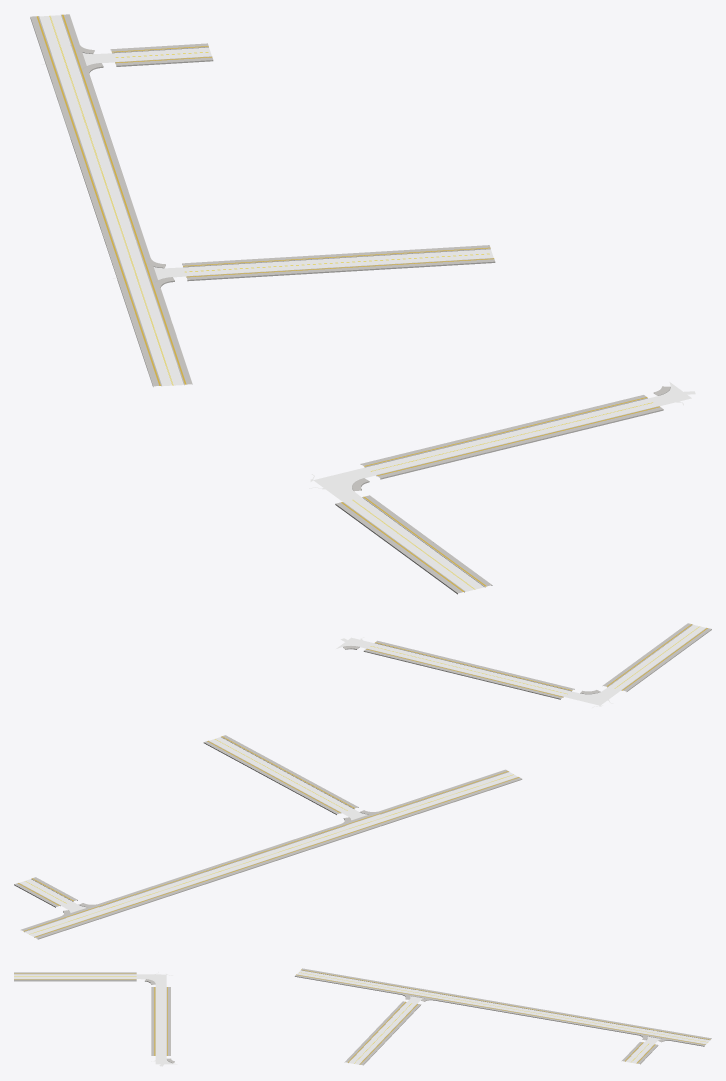
File: roads_-5_0.gltf
3 renders of one model, top to bottom at view 1: azimuth 30°, elevation 25°; view 2: azimuth 150°, elevation 25°; view 3: azimuth 270°, elevation 25°, orthographic. The views are drawn at different scales.
Visible parts, largest first — view 1: roads_-5_0_SH_wet_asphalt, roads_-5_0_SH_sidewalk, roads_-5_0_Road_Tactile_Strip, roads_-5_0_SH_kerb, roads_-5_0_SH_road_marking_white, roads_-5_0_SH_road_marking_yellow; view 2: roads_-5_0_SH_wet_asphalt, roads_-5_0_SH_sidewalk, roads_-5_0_Road_Tactile_Strip, roads_-5_0_SH_kerb, roads_-5_0_SH_road_marking_white, roads_-5_0_SH_road_marking_yellow; view 3: roads_-5_0_SH_wet_asphalt, roads_-5_0_SH_sidewalk, roads_-5_0_Road_Tactile_Strip, roads_-5_0_SH_kerb, roads_-5_0_SH_road_marking_yellow, roads_-5_0_SH_road_marking_white.
Part boxes in pixels (left/top/right/bottom): roads_-5_0_SH_wet_asphalt: left=39, top=15, right=695, bottom=591; roads_-5_0_SH_sidewalk: left=30, top=14, right=669, bottom=594; roads_-5_0_Road_Tactile_Strip: left=36, top=14, right=659, bottom=591; roads_-5_0_SH_kerb: left=38, top=14, right=670, bottom=592; roads_-5_0_SH_road_marking_white: left=39, top=15, right=683, bottom=591; roads_-5_0_SH_road_marking_yellow: left=49, top=16, right=652, bottom=589; roads_-5_0_SH_wet_asphalt: left=19, top=625, right=705, bottom=936; roads_-5_0_SH_sidewalk: left=14, top=623, right=711, bottom=939; roads_-5_0_Road_Tactile_Strip: left=18, top=624, right=707, bottom=937; roads_-5_0_SH_kerb: left=19, top=624, right=706, bottom=937; roads_-5_0_SH_road_marking_white: left=24, top=625, right=705, bottom=931; roads_-5_0_SH_road_marking_yellow: left=25, top=626, right=699, bottom=934; roads_-5_0_SH_wet_asphalt: left=14, top=970, right=709, bottom=1066; roads_-5_0_SH_sidewalk: left=14, top=968, right=711, bottom=1065; roads_-5_0_Road_Tactile_Strip: left=14, top=969, right=710, bottom=1064; roads_-5_0_SH_kerb: left=14, top=970, right=709, bottom=1064; roads_-5_0_SH_road_marking_yellow: left=14, top=972, right=707, bottom=1063; roads_-5_0_SH_road_marking_white: left=151, top=970, right=708, bottom=1063.
Size of what is drawn, in the model's own units: 170 by 0.506 by 512.
